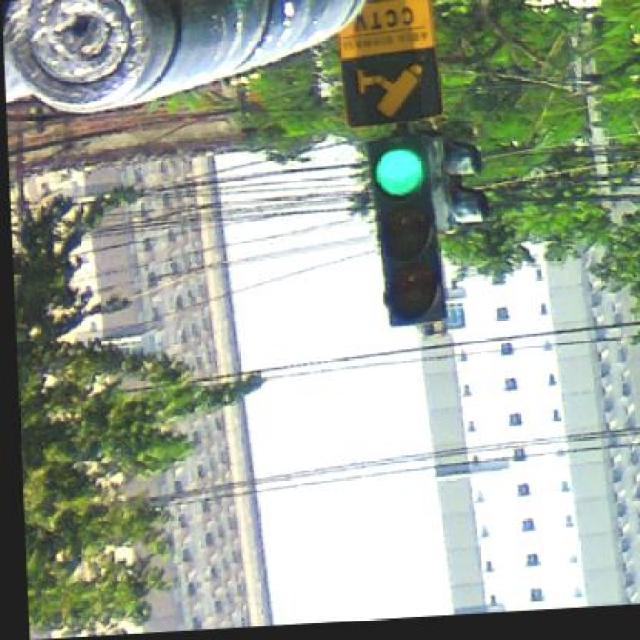traffic light: (367, 135, 447, 328), (339, 0, 443, 131), (434, 123, 490, 234)
